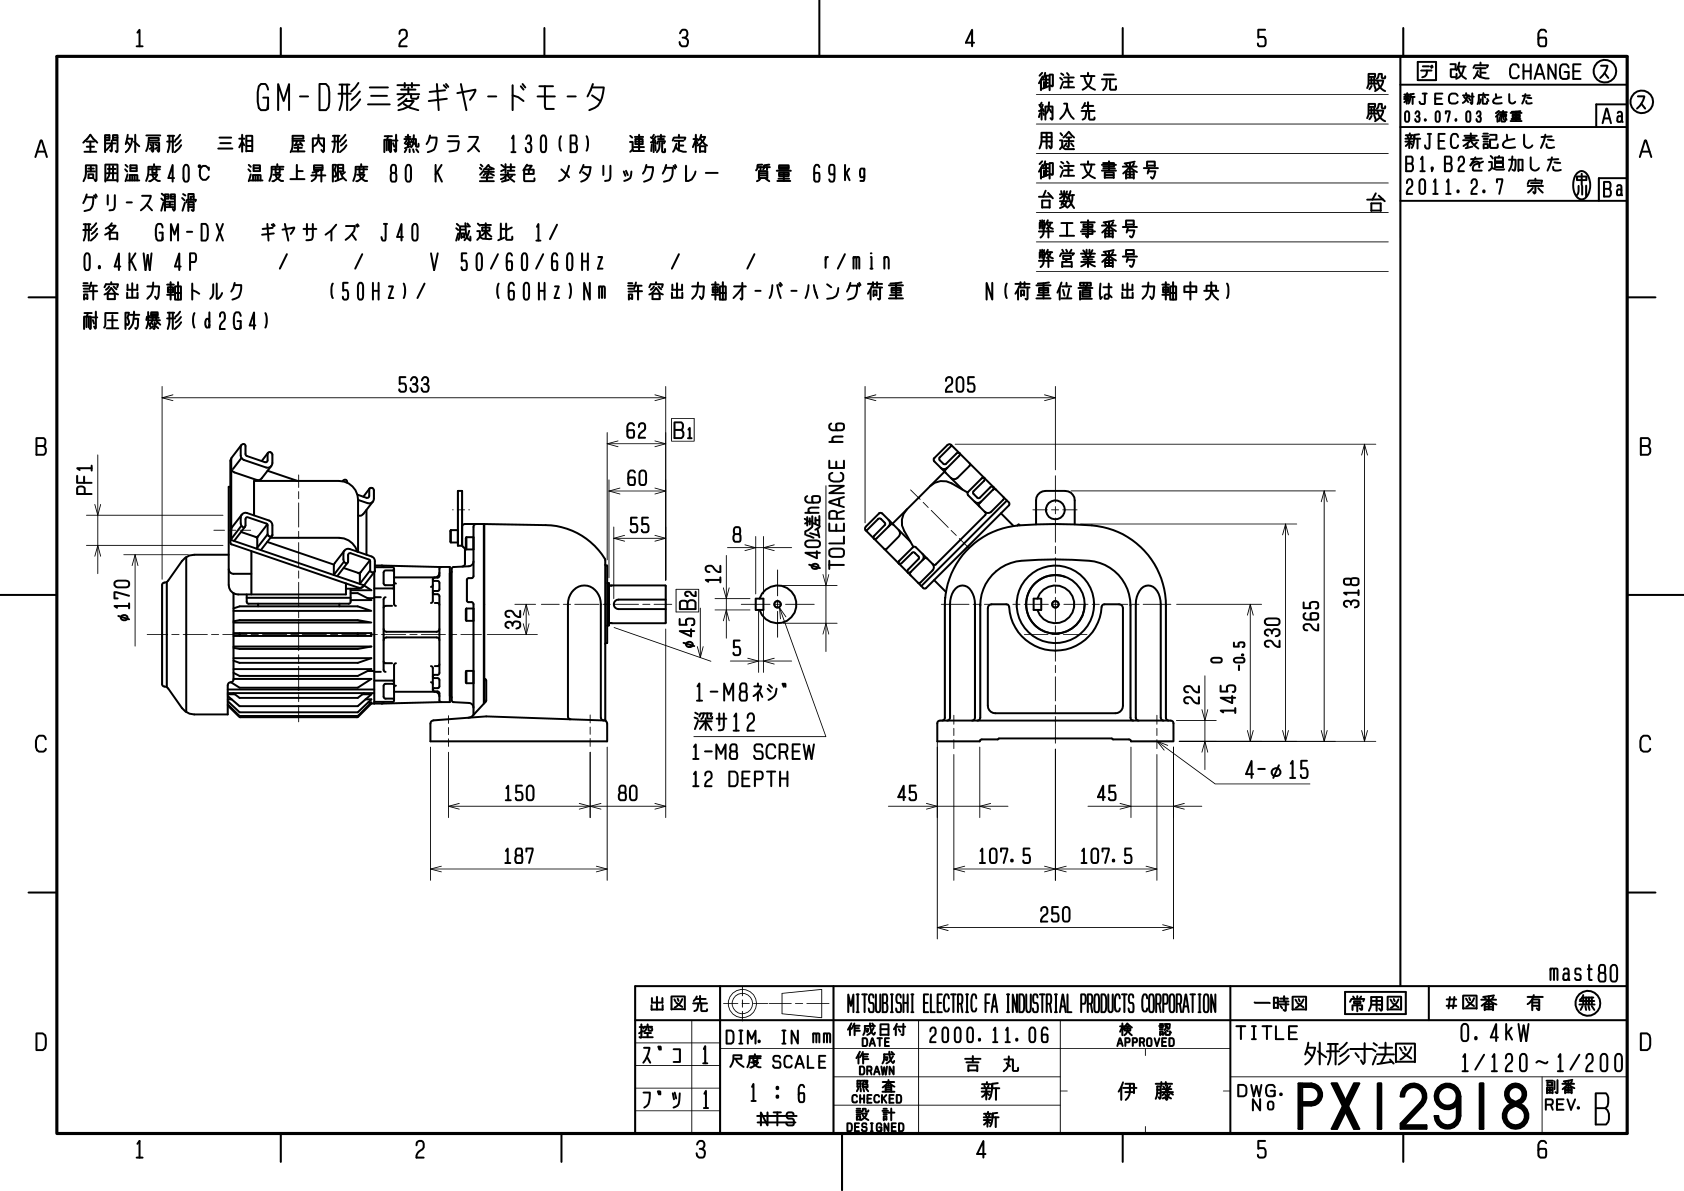GM_D_耐圧屋内_三相_脚: (67, 343, 1389, 955)
